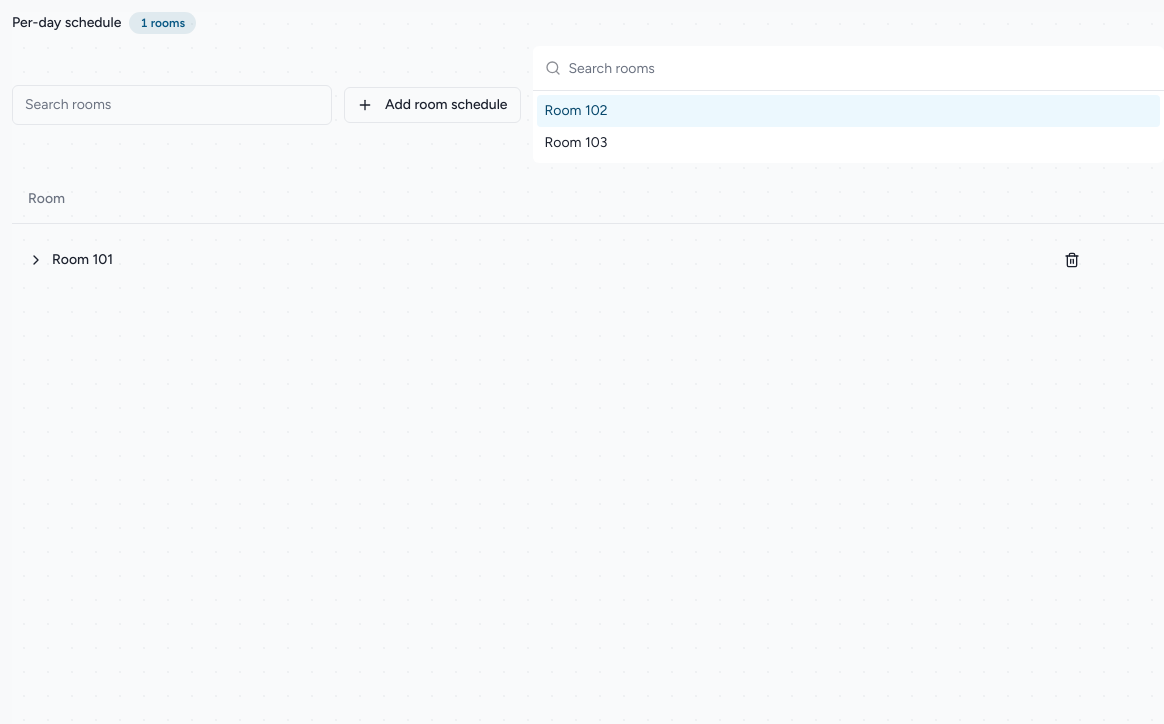
it: WeeklyScheduleField › shows all 7 days when a room's row is expanded, using default text for uncustomized days
This screenshot has width=1164, height=724.
Click the button with aria-label "Expand Room 101": (71, 260) [28,250,113,270]
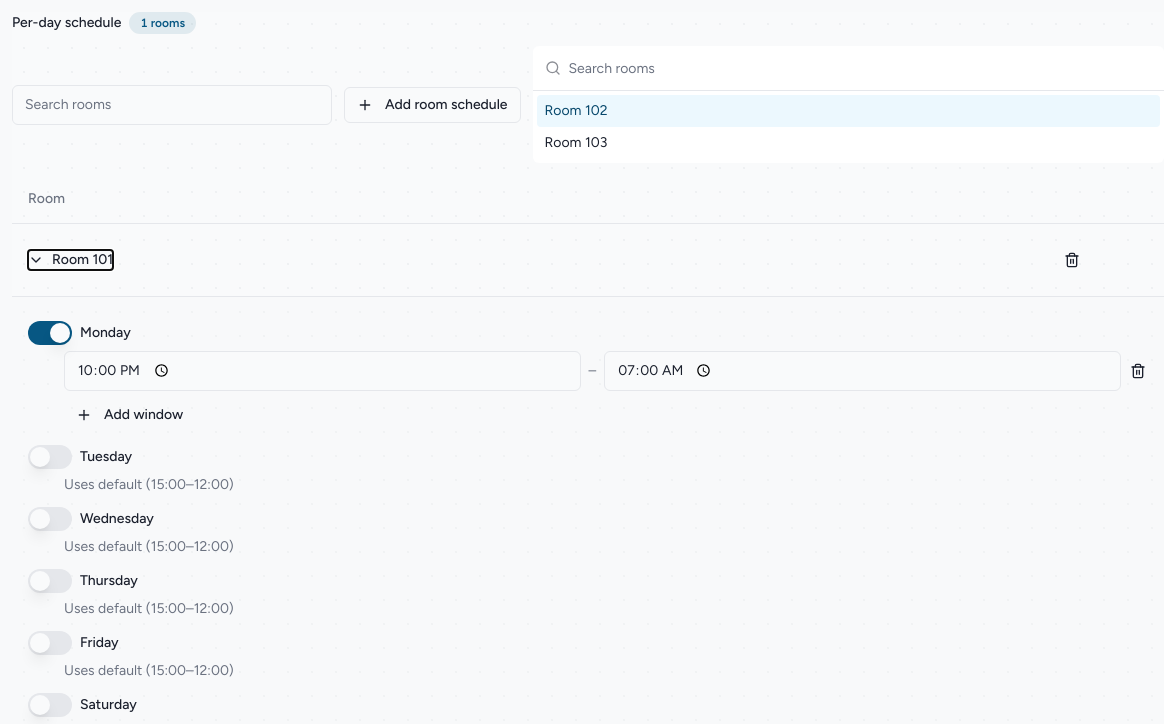
Now the text "Monday" is shown, box [80,322,131,342]
Now the text "Tuesday" is shown, box [80,446,132,466]
Now the text "Uses default (15:00–12:00)" below "Tuesday" is shown, box [64,476,234,492]
